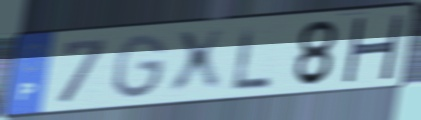7: (58, 35, 110, 106)
8: (292, 19, 340, 88)
G: (111, 31, 170, 102)
H: (339, 14, 406, 83)
L: (231, 24, 274, 94)
X: (168, 26, 229, 99)
